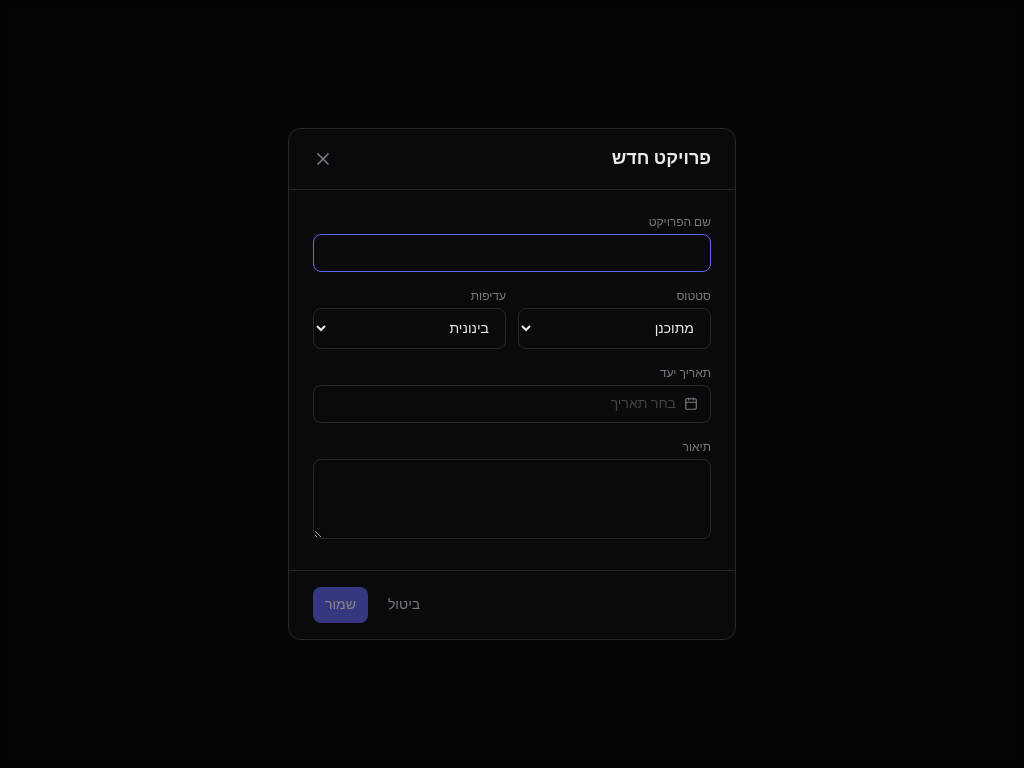
Test: AddDialog — project › submit button enables after typing name
Type "פרויקט חדש" into the field.
click(512, 253); type("פרויקט חדש")  # box [313,234,711,272]
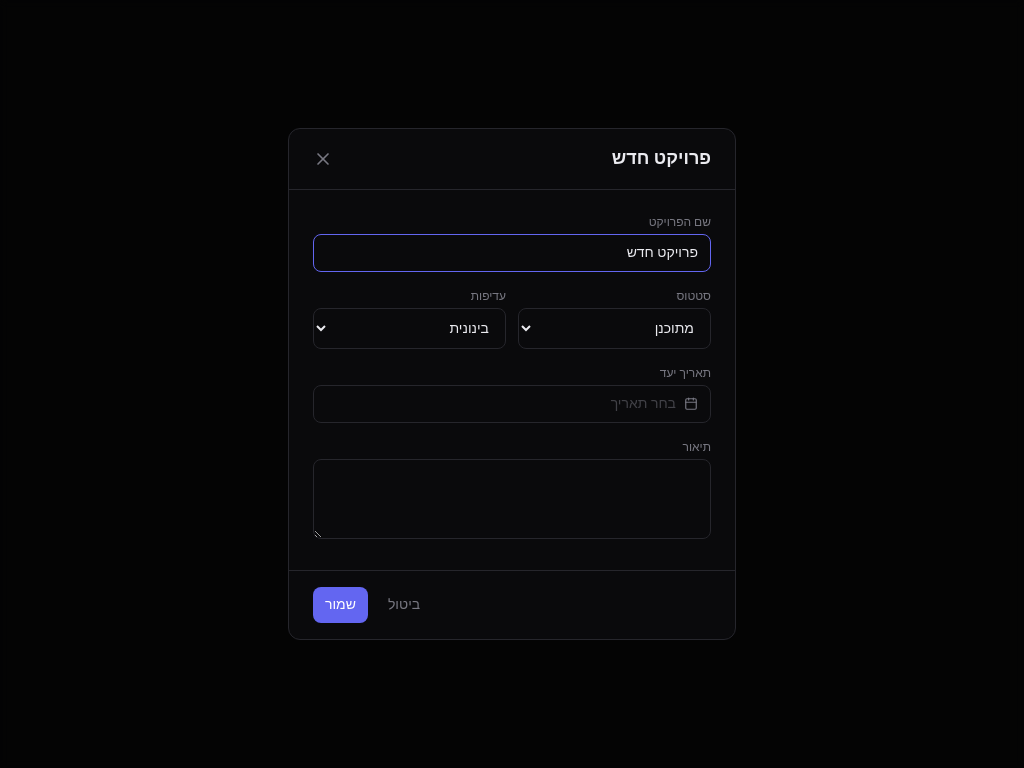
Result: the button "שמור" is enabled at [313,587,368,623]
